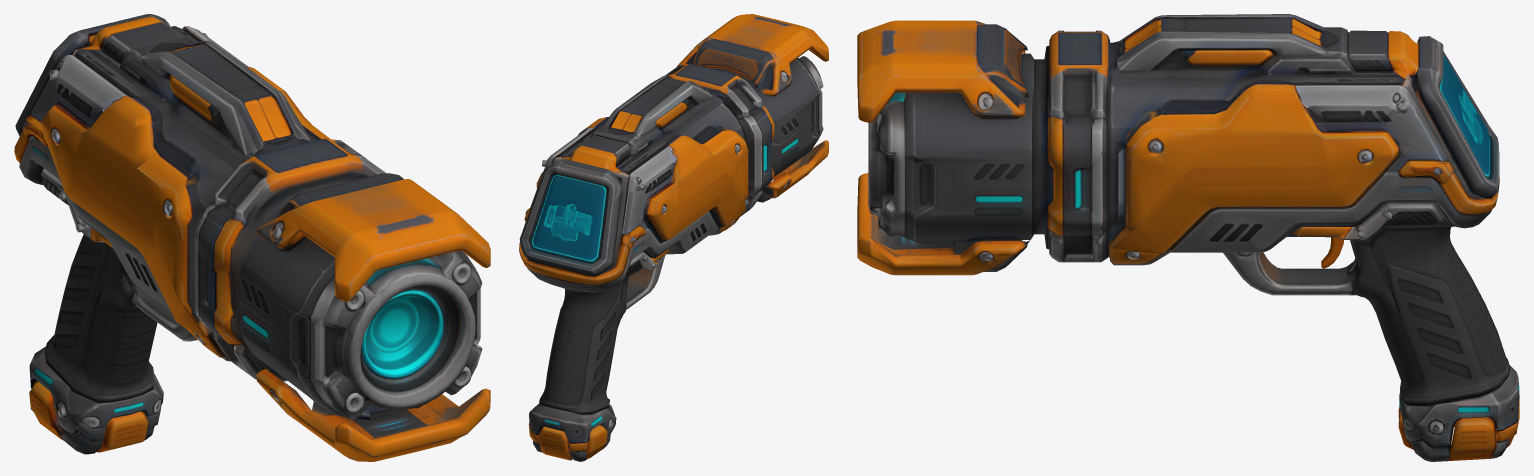
The model's file is UC_EQ_ConstructionProjector_v02.glb.
The picture shows the model from 3 angles, left to right: view 1: azimuth 30°, elevation 25°; view 2: azimuth 150°, elevation 25°; view 3: azimuth 270°, elevation 25°; orthographic projection. The views are drawn at different scales.
Parts seen in each view (by area): view 1: Body; view 2: Body; view 3: Body.
Part boxes in pixels (box(x1,y1,x2,y2)): Body: box(14, 14, 490, 461); Body: box(519, 14, 828, 461); Body: box(857, 14, 1519, 461).
Bounding box in the file's own units: 0.0967 × 0.2229 × 0.3148.
Materials: 1 (1 with a texture image).
